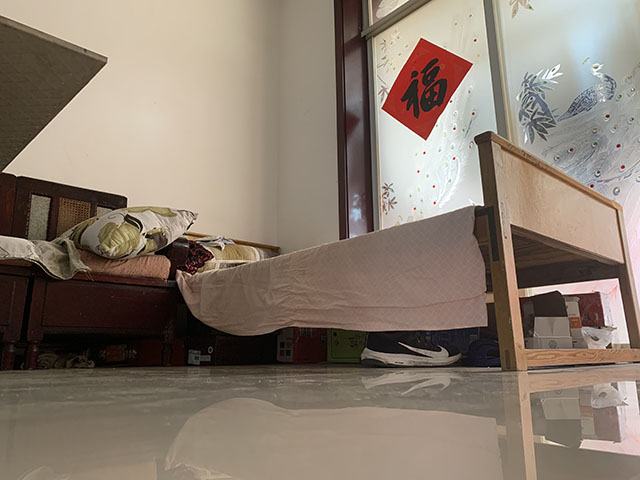bed: (179, 129, 640, 373)
sofa: (1, 171, 199, 368)
